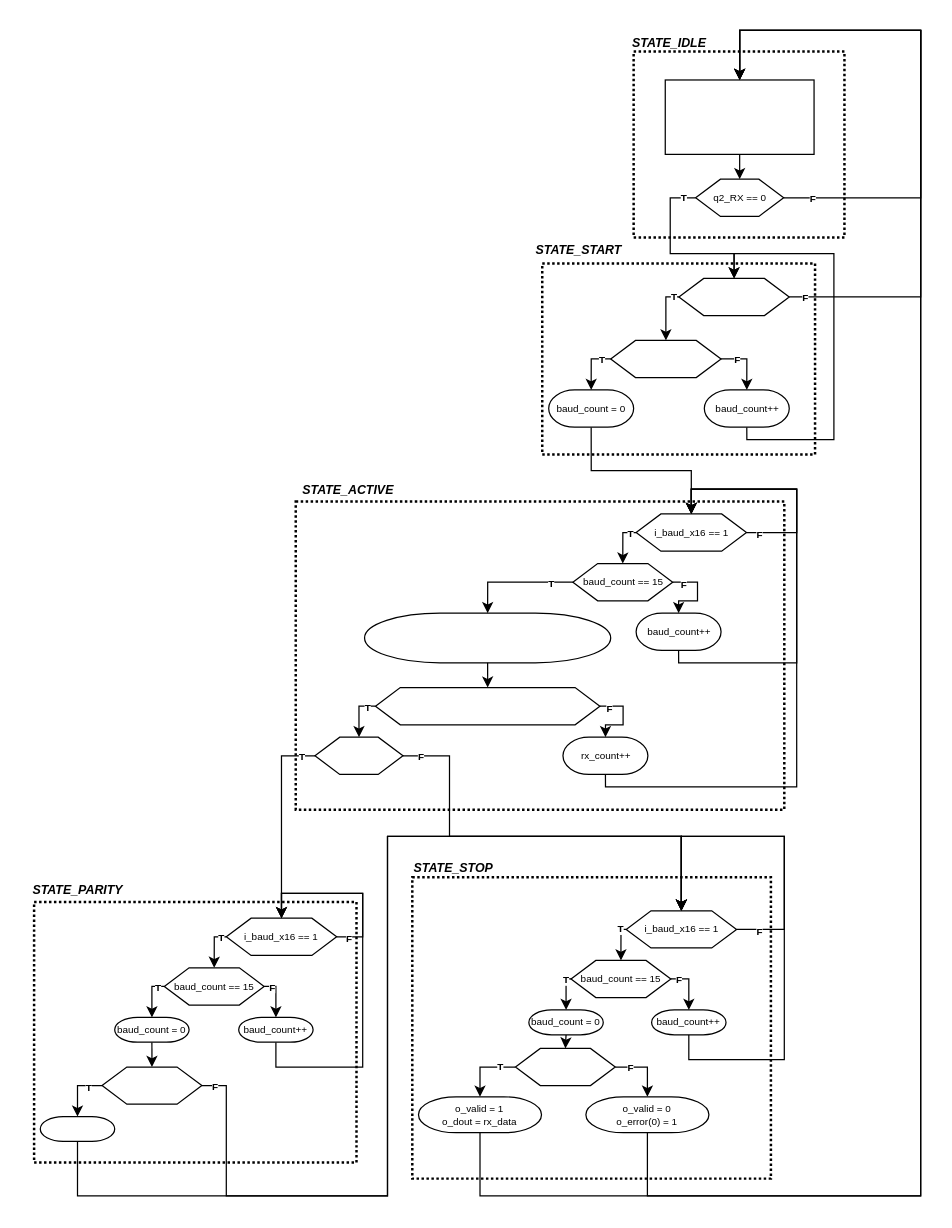
This 952x1228 diagram has some shape labels left out. The box of each missing label's shape, as (x1, y1, x2, y2) in pixels:
baud_count = 0 rx_count = 0 o_valid = 0 rx_data = 0: (664, 79, 814, 154)
baud_count = 0 rx_data = {q2_RX, rx_data[FRAME_WIDTH-1:0]}: (363, 612, 611, 663)
baud_count == 7: (609, 339, 721, 378)
o_error(1) = 1: (39, 1115, 115, 1141)
parity != q2_RX: (101, 1066, 202, 1104)
PARITY_EN = 1: (314, 736, 403, 774)
q2_RX = 0: (678, 277, 789, 316)
q2_RX == 1: (514, 1047, 615, 1086)
rx_count == FRAME_WIDTH-PARITY_EN-1: (374, 686, 600, 725)
